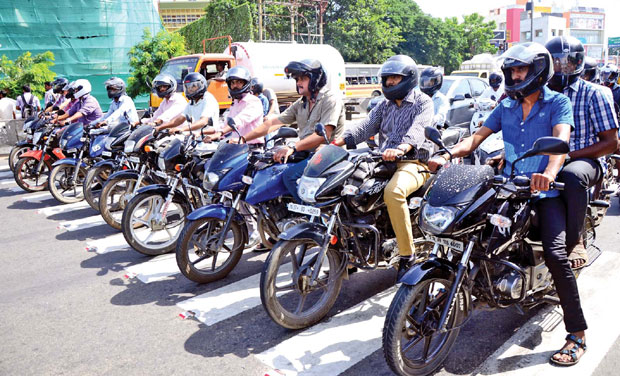helmet: (502, 42, 553, 90), (378, 56, 420, 98), (549, 33, 586, 75), (286, 56, 327, 87), (226, 67, 252, 95), (182, 71, 207, 96), (153, 68, 177, 93), (104, 73, 125, 96), (70, 75, 91, 98)
